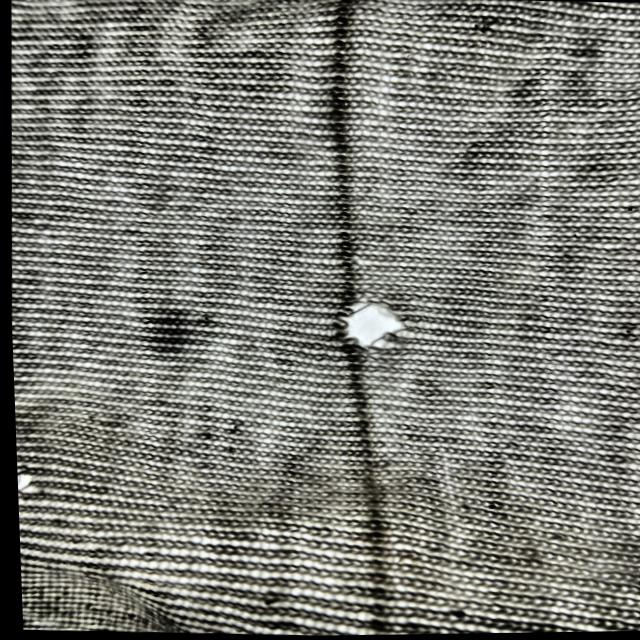Hole: (127, 298, 227, 362), (13, 456, 33, 496)
